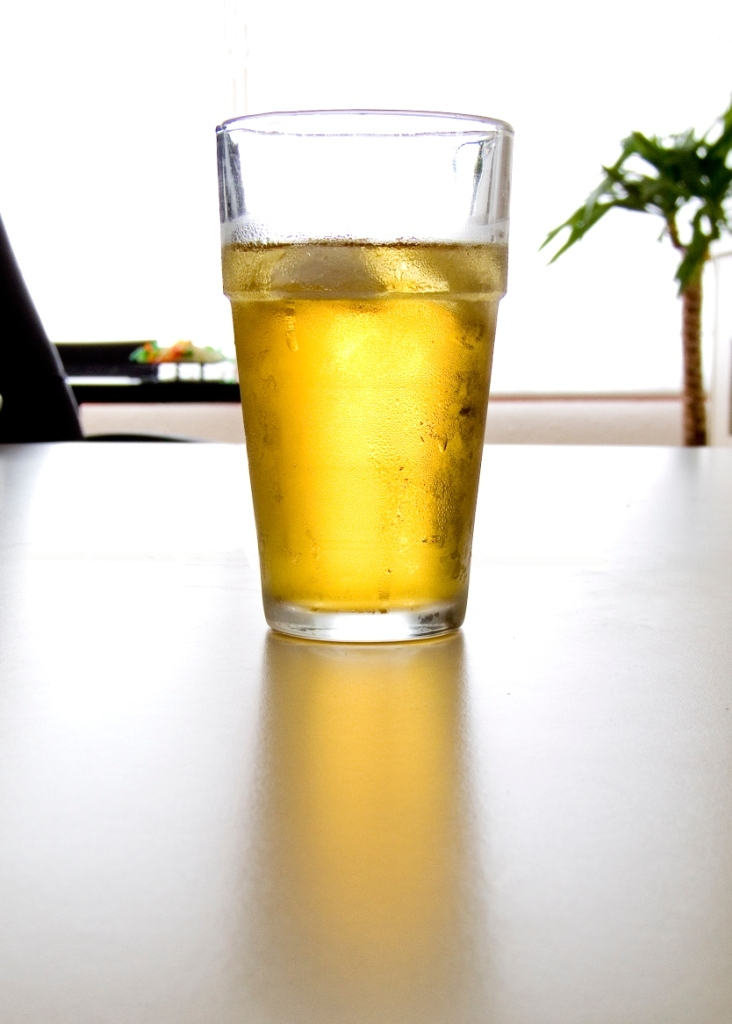Beer: (222, 229, 509, 613)
